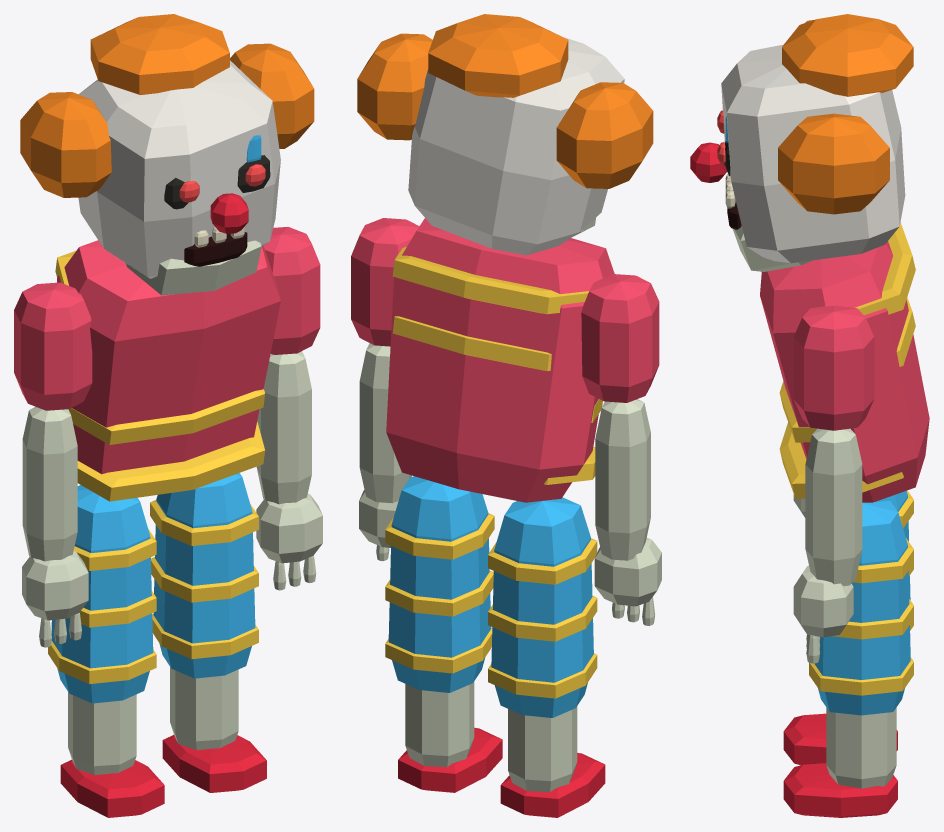
File: mon-clown-1.glb
The picture shows the model from 3 angles, left to right: view 1: azimuth 30°, elevation 25°; view 2: azimuth 150°, elevation 25°; view 3: azimuth 270°, elevation 25°; orthographic projection.
Visible parts, largest first — view 1: head, torso, leg-left, leg-right, arm-right, arm-left; view 2: head, torso, leg-right, leg-left, arm-right, arm-left; view 3: head, leg-left, torso, arm-left, leg-right.
Part boxes in pixels (x1,y1,x2,y2): head: [20, 14, 314, 295]; torso: [55, 240, 280, 501]; leg-left: [150, 473, 266, 792]; leg-right: [48, 485, 164, 817]; arm-right: [14, 282, 92, 647]; arm-left: [256, 227, 322, 590]; head: [357, 14, 653, 255]; torso: [386, 218, 614, 502]; leg-right: [488, 497, 605, 817]; leg-left: [385, 476, 502, 792]; arm-right: [581, 274, 661, 625]; arm-left: [351, 218, 419, 561]; head: [690, 14, 913, 271]; leg-left: [783, 500, 913, 817]; torso: [760, 222, 929, 502]; arm-left: [793, 305, 874, 663]; leg-right: [783, 490, 913, 765].
Size of the model in its own units: 0.9745 by 2.41 by 0.695.
